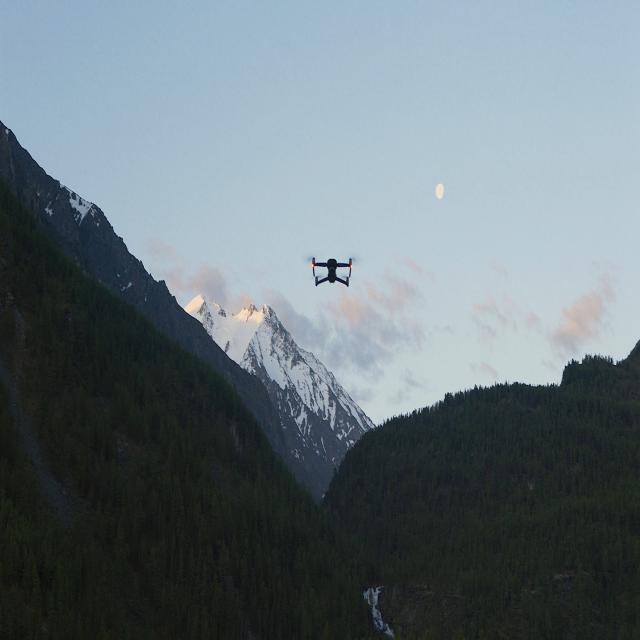Drone: (311, 256, 353, 287)
